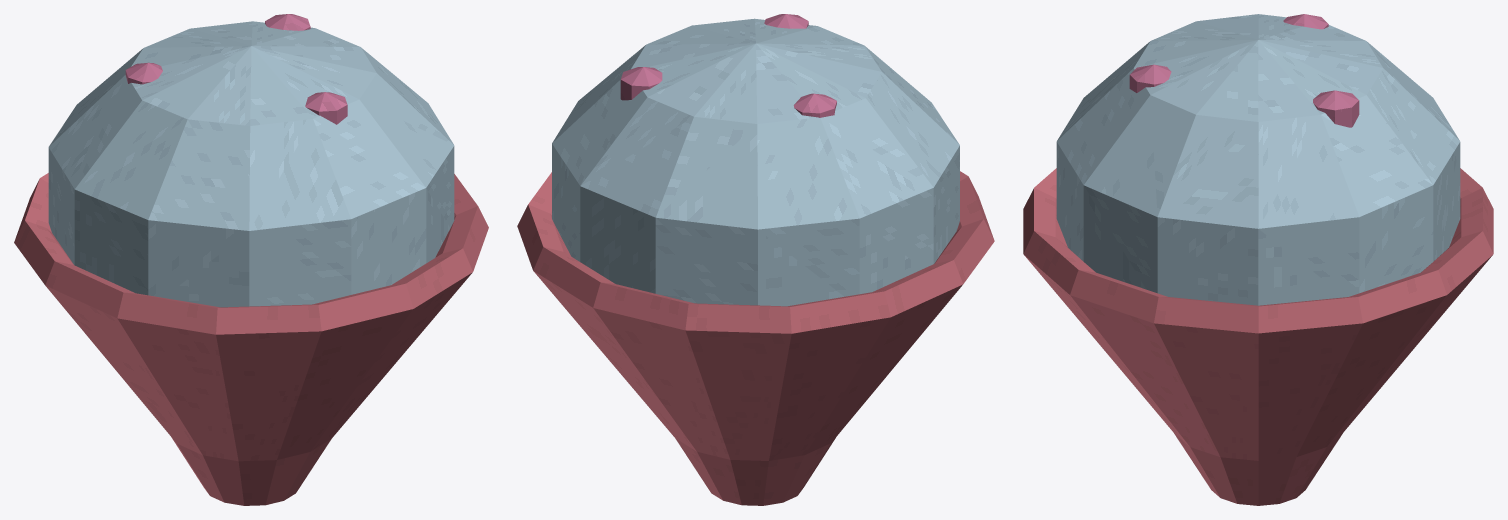
File: snowcone.glb
3 renders of one model, left to right at view 1: azimuth 30°, elevation 25°; view 2: azimuth 150°, elevation 25°; view 3: azimuth 270°, elevation 25°, orthographic.
Visible parts, largest first — view 1: block_frozen scoop, block_waxed paper cone, block_flavor and topping flecks (×3); view 2: block_frozen scoop, block_waxed paper cone, block_flavor and topping flecks (×3); view 3: block_frozen scoop, block_waxed paper cone, block_flavor and topping flecks (×2).
Boxes of the visible parts, x1,y1,x2,y2 form: block_frozen scoop: (48,21,454,307); block_waxed paper cone: (14,173,488,505); block_flavor and topping flecks (×3): (125,14,347,124); block_frozen scoop: (552,18,959,306); block_waxed paper cone: (517,171,994,505); block_flavor and topping flecks (×3): (620,14,836,117); block_frozen scoop: (1056,14,1460,305); block_waxed paper cone: (1023,168,1493,505); block_flavor and topping flecks (×2): (1129,64,1359,127).
Size of the model in its own units: 0.118 by 0.1203 by 0.1151.
Materials: 1 (1 with a texture image).
